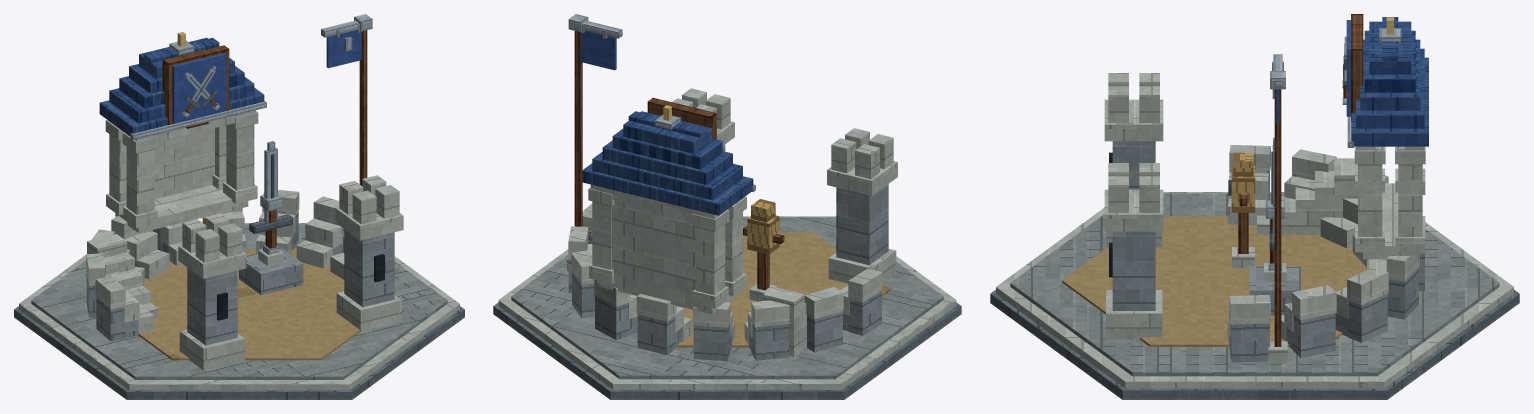
Rendered from warrior_mastery_hex_v1.glb.
3 views of the same model, side by side, from view 1: azimuth 30°, elevation 25°; view 2: azimuth 150°, elevation 25°; view 3: azimuth 270°, elevation 25° (orthographic). The views are drawn at different scales.
Visible parts, largest first — view 1: Warrior_Mastery_Hex_V1_Courtyard, Warrior_Mastery_Hex_V1_Foundation, Warrior_Mastery_Hex_V1_Focus, Warrior_Mastery_Hex_V1_Hall, Warrior_Mastery_Hex_V1_Faction, Warrior_Mastery_Hex_V1_Roofs, Warrior_Mastery_Hex_V1_Training, Warrior_Mastery_Hex_V1_Details; view 2: Warrior_Mastery_Hex_V1_Foundation, Warrior_Mastery_Hex_V1_Courtyard, Warrior_Mastery_Hex_V1_Hall, Warrior_Mastery_Hex_V1_Roofs, Warrior_Mastery_Hex_V1_Focus, Warrior_Mastery_Hex_V1_Faction, Warrior_Mastery_Hex_V1_Training; view 3: Warrior_Mastery_Hex_V1_Foundation, Warrior_Mastery_Hex_V1_Courtyard, Warrior_Mastery_Hex_V1_Focus, Warrior_Mastery_Hex_V1_Roofs, Warrior_Mastery_Hex_V1_Hall, Warrior_Mastery_Hex_V1_Faction, Warrior_Mastery_Hex_V1_Training.
Part boxes in pixels (box(x1,y1,x2,y2)): Warrior_Mastery_Hex_V1_Courtyard: box(86, 190, 359, 360); Warrior_Mastery_Hex_V1_Foundation: box(14, 223, 464, 399); Warrior_Mastery_Hex_V1_Focus: box(178, 175, 403, 370); Warrior_Mastery_Hex_V1_Hall: box(105, 110, 258, 232); Warrior_Mastery_Hex_V1_Faction: box(162, 14, 372, 185); Warrior_Mastery_Hex_V1_Roofs: box(99, 32, 266, 139); Warrior_Mastery_Hex_V1_Training: box(202, 141, 303, 295); Warrior_Mastery_Hex_V1_Details: box(217, 254, 384, 320); Warrior_Mastery_Hex_V1_Foundation: box(493, 216, 961, 399); Warrior_Mastery_Hex_V1_Courtyard: box(568, 203, 890, 361); Warrior_Mastery_Hex_V1_Hall: box(588, 184, 746, 314); Warrior_Mastery_Hex_V1_Roofs: box(582, 105, 755, 215); Warrior_Mastery_Hex_V1_Focus: box(672, 88, 897, 283); Warrior_Mastery_Hex_V1_Faction: box(567, 14, 716, 271); Warrior_Mastery_Hex_V1_Training: box(743, 199, 784, 301); Warrior_Mastery_Hex_V1_Foundation: box(990, 192, 1519, 399); Warrior_Mastery_Hex_V1_Courtyard: box(1062, 145, 1425, 362); Warrior_Mastery_Hex_V1_Focus: box(1104, 73, 1163, 339); Warrior_Mastery_Hex_V1_Roofs: box(1347, 17, 1428, 147); Warrior_Mastery_Hex_V1_Hall: box(1354, 146, 1425, 259); Warrior_Mastery_Hex_V1_Faction: box(1268, 14, 1363, 363); Warrior_Mastery_Hex_V1_Training: box(1228, 137, 1300, 315).
Size of the model in its own units: 1.59 by 1.17 by 1.84.
1 material, 1 textured.
